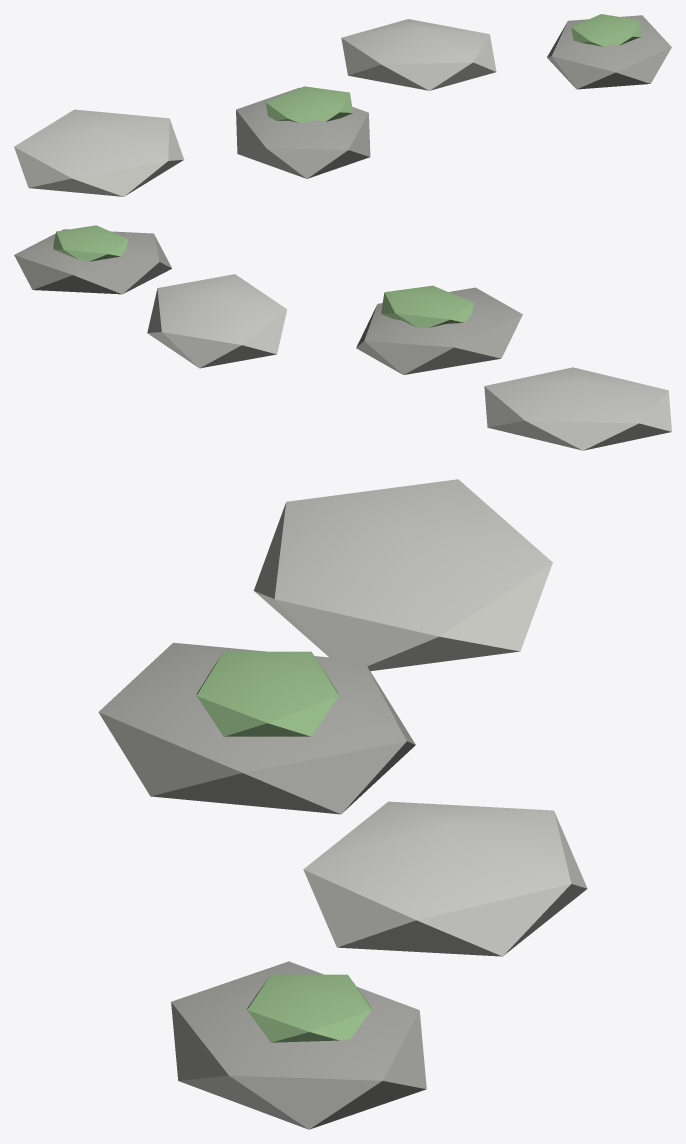
The model's file is hearthvale_stepping_stones.glb.
3 views of the same model, one above another, from view 1: azimuth 30°, elevation 25°; view 2: azimuth 150°, elevation 25°; view 3: azimuth 270°, elevation 25° (orthographic). The views are drawn at different scales.
Parts seen in each view (by area): view 1: hearthvale_stepping_stones; view 2: hearthvale_stepping_stones; view 3: hearthvale_stepping_stones.
Boxes of the visible parts, x1=… form: hearthvale_stepping_stones: x1=14, y1=14, x2=671, y2=196; hearthvale_stepping_stones: x1=14, y1=225, x2=671, y2=450; hearthvale_stepping_stones: x1=98, y1=479, x2=587, y2=1129.
Bounding box in the file's own units: 1.38 × 0.1121 × 0.4682.
